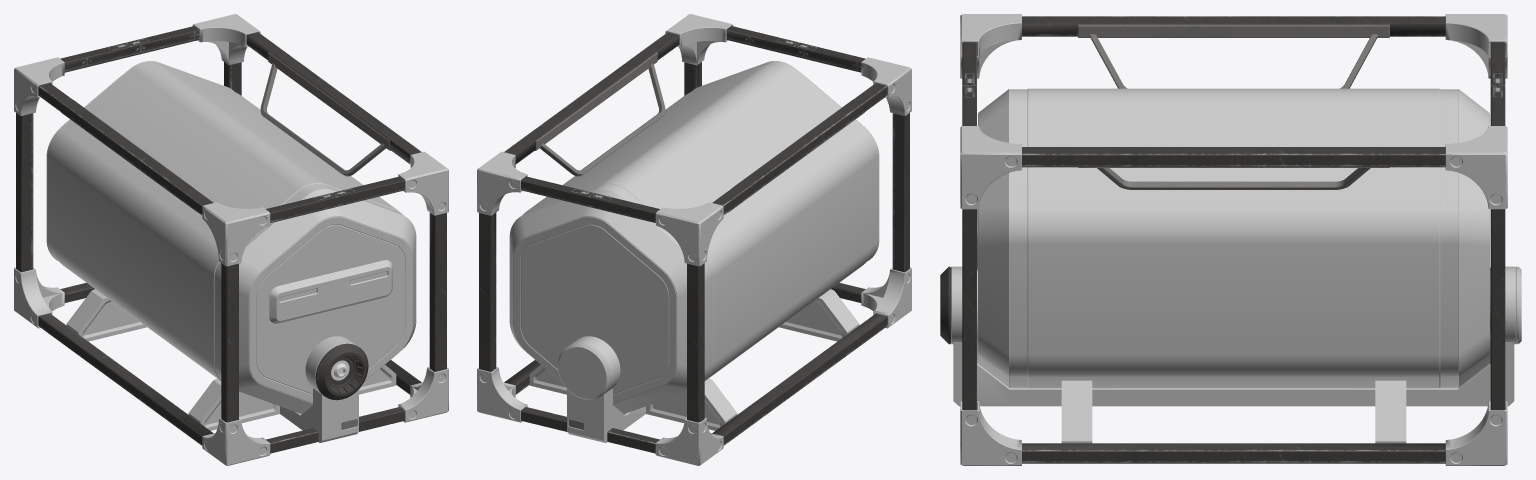
File: KB3D_MTM_PropTanks_A.fbx
3 views of the same model, side by side, from view 1: azimuth 30°, elevation 25°; view 2: azimuth 150°, elevation 25°; view 3: azimuth 270°, elevation 25° (orthographic). The views are drawn at different scales.
Visible parts, largest first — view 1: KB3D_MTM_PropTanks_A_Main; view 2: KB3D_MTM_PropTanks_A_Main; view 3: KB3D_MTM_PropTanks_A_Main.
Boxes of the visible parts, x1,y1,x2,y2 form: KB3D_MTM_PropTanks_A_Main: [14, 14, 448, 465]; KB3D_MTM_PropTanks_A_Main: [477, 14, 911, 465]; KB3D_MTM_PropTanks_A_Main: [940, 14, 1521, 465].
Size of the model in its own units: 313 by 326 by 548.
